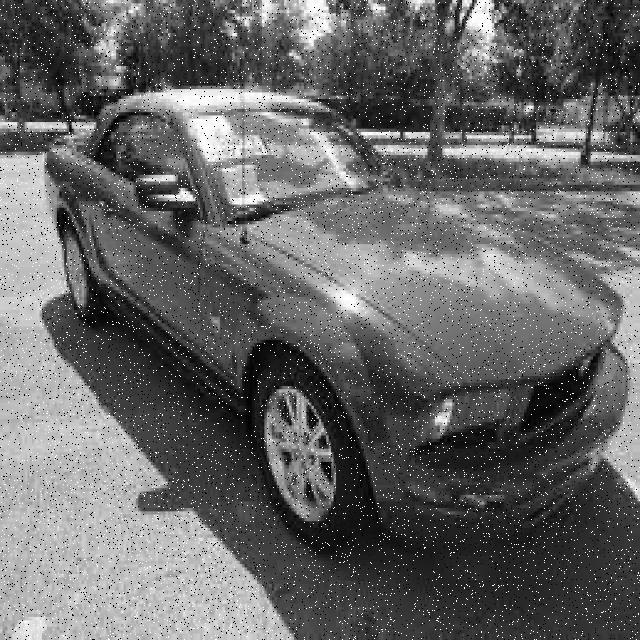Sedan: (43, 91, 632, 556)
